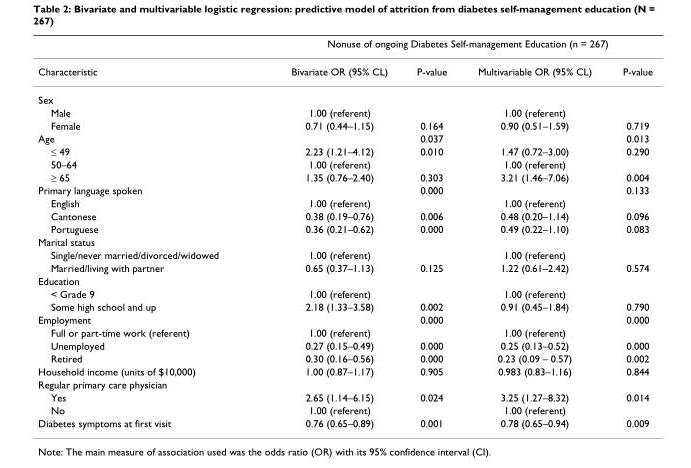table: (37, 37, 652, 428)
table column: (37, 37, 254, 428), (254, 37, 401, 428), (461, 37, 606, 428), (401, 37, 461, 428), (606, 37, 652, 428)
table column header: (37, 37, 652, 85)
table projected row header: (37, 85, 652, 105), (37, 235, 652, 248), (37, 273, 652, 286), (37, 377, 652, 390)
table row: (37, 57, 652, 85), (37, 37, 652, 57), (37, 85, 652, 105), (37, 143, 652, 157), (37, 169, 652, 183), (37, 105, 652, 118), (37, 118, 652, 131), (37, 183, 652, 196), (37, 196, 652, 209), (37, 209, 652, 222), (37, 222, 652, 235), (37, 235, 652, 248), (37, 260, 652, 273), (37, 273, 652, 286), (37, 286, 652, 299), (37, 299, 652, 312), (37, 312, 652, 325), (37, 325, 652, 338), (37, 338, 652, 351), (37, 351, 652, 364), (37, 364, 652, 377), (37, 377, 652, 390), (37, 390, 652, 403), (37, 403, 652, 416), (37, 131, 652, 143), (37, 157, 652, 169), (37, 248, 652, 260), (37, 416, 652, 428)
table spanning cell: (37, 37, 254, 85), (254, 37, 652, 57)
